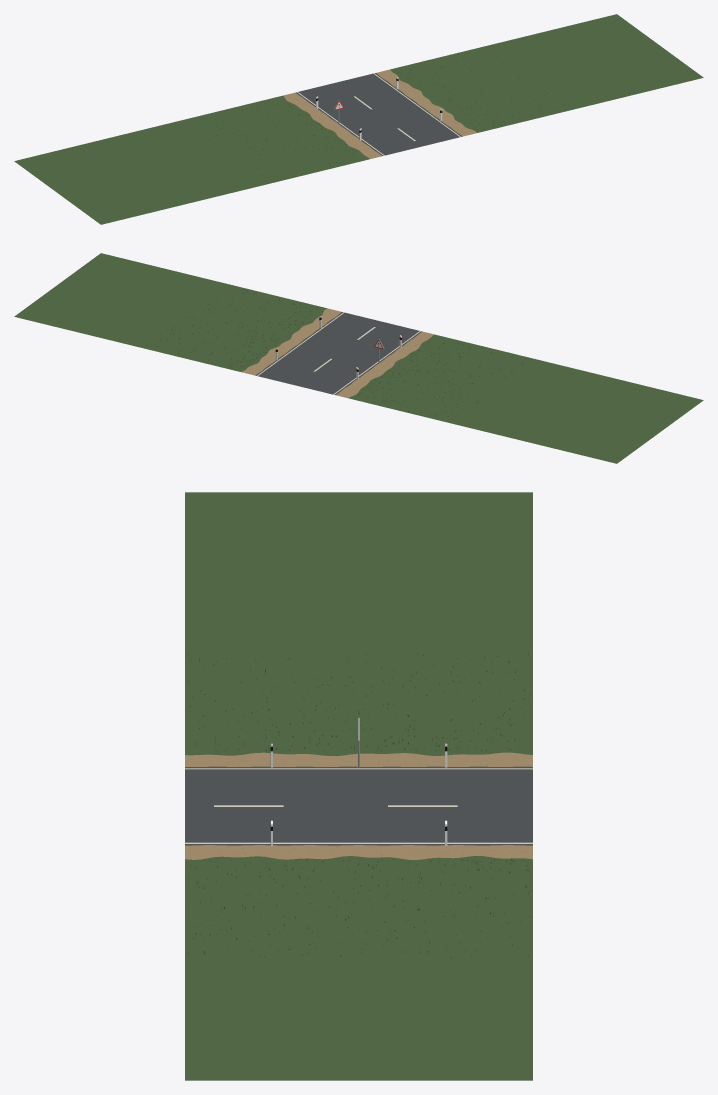
File: environment.fbx
3 views of the same model, one above another, from view 1: azimuth 30°, elevation 25°; view 2: azimuth 150°, elevation 25°; view 3: azimuth 270°, elevation 25° (orthographic). The views are drawn at different scales.
Visible parts, largest first — view 1: RoadSection; view 2: RoadSection; view 3: RoadSection.
Part boxes in pixels (left/top/right/bottom): RoadSection: left=14, top=14, right=703, bottom=224; RoadSection: left=14, top=253, right=703, bottom=463; RoadSection: left=185, top=492, right=532, bottom=1080.
Bounding box in the file's own units: 48 × 1.85 × 12.
